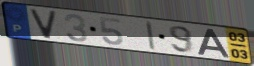3: (63, 13, 89, 42)
5: (98, 16, 125, 47)
9: (168, 25, 196, 53)
A: (197, 27, 232, 59)
I: (144, 20, 157, 52)
V: (28, 8, 59, 40)
